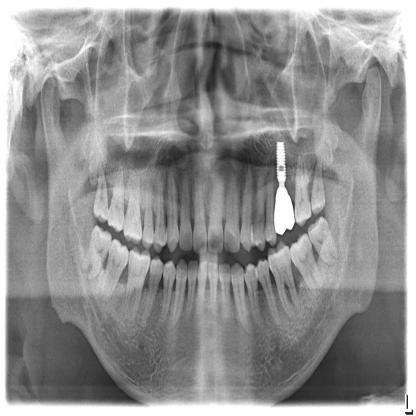Bicon: (276, 137, 287, 187)
